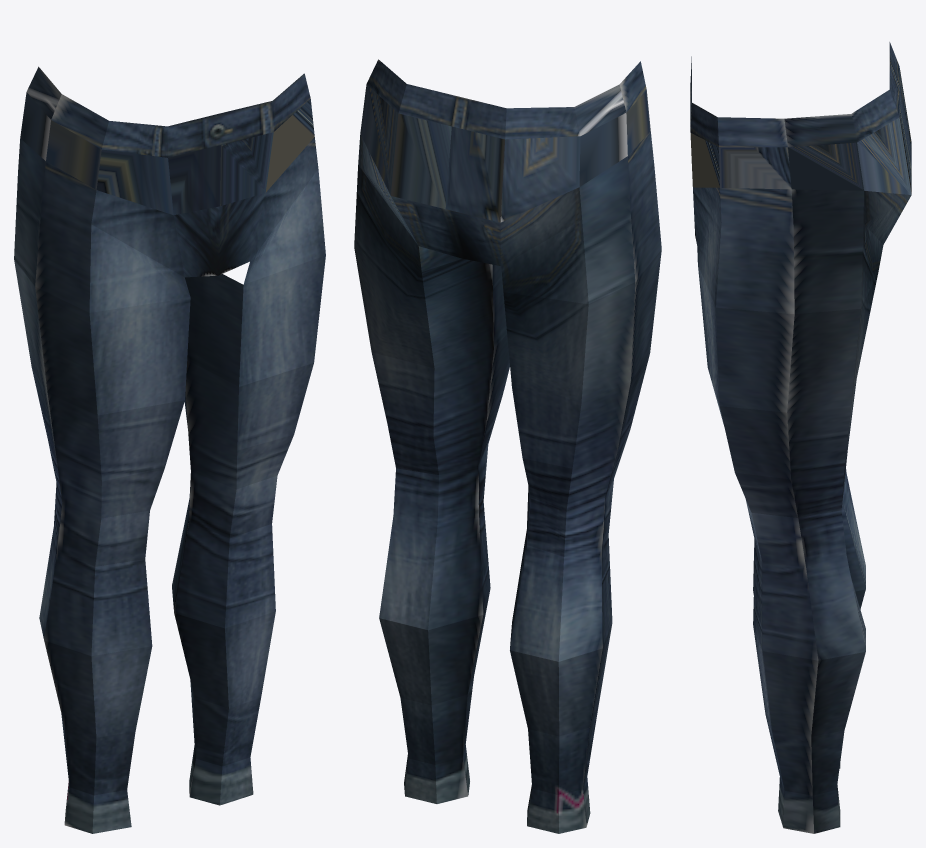
The model's file is pantalondama.gltf.
3 views of the same model, side by side, from view 1: azimuth 30°, elevation 25°; view 2: azimuth 150°, elevation 25°; view 3: azimuth 270°, elevation 25° (orthographic). The views are drawn at different scales.
Visible parts, largest first — view 1: Cube; view 2: Cube; view 3: Cube.
Part boxes in pixels (box(x1,y1,x2,y2)): Cube: box(14, 66, 325, 833); Cube: box(354, 59, 661, 833); Cube: box(690, 42, 911, 833).
Size of what is drawn, in the model's own units: 0.3893 by 1.05 by 0.2917.
2 materials, 2 textured.
